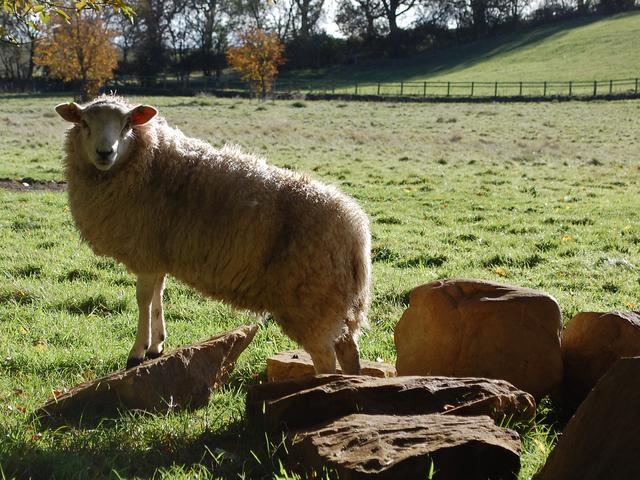sheep: (22, 74, 476, 441)
